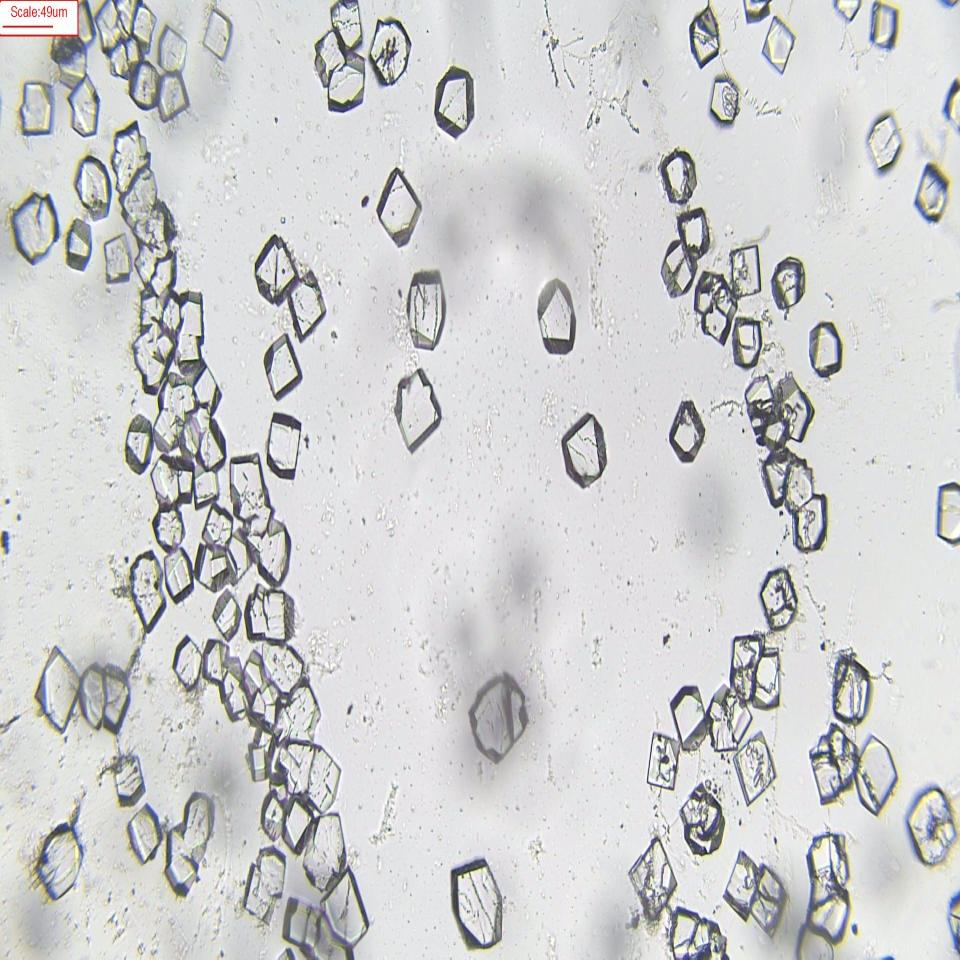crystal: (468, 674, 531, 759), (125, 554, 184, 641), (451, 860, 505, 954), (629, 836, 683, 929), (33, 643, 84, 737), (855, 718, 902, 814), (910, 779, 958, 870), (36, 813, 86, 900), (10, 186, 61, 264), (809, 722, 862, 795), (395, 368, 442, 449), (378, 163, 422, 248), (563, 409, 609, 488), (407, 267, 448, 355), (678, 783, 725, 858), (370, 12, 414, 88), (536, 274, 578, 351), (433, 64, 476, 138), (660, 233, 705, 303), (829, 654, 873, 723), (252, 234, 298, 299), (733, 736, 776, 801), (724, 845, 758, 926), (668, 684, 711, 748), (286, 270, 327, 337), (68, 76, 107, 145), (171, 634, 211, 697), (726, 240, 764, 305), (762, 566, 800, 630), (15, 77, 56, 136), (268, 412, 304, 477), (73, 155, 112, 215), (916, 159, 951, 225), (264, 336, 301, 398), (199, 2, 234, 66), (769, 252, 806, 312), (669, 395, 703, 460), (648, 726, 682, 790), (688, 2, 721, 67), (762, 14, 796, 77), (659, 150, 698, 204), (870, 112, 902, 174), (127, 804, 158, 868), (154, 22, 195, 70), (165, 542, 196, 604), (731, 313, 764, 371), (934, 477, 960, 550), (110, 749, 145, 803), (809, 322, 842, 378), (680, 204, 714, 256), (124, 413, 155, 470), (868, 0, 902, 48), (711, 71, 741, 125), (106, 229, 133, 284), (66, 213, 94, 266), (212, 598, 241, 640)
not_crystal: (710, 643, 786, 745), (759, 457, 830, 555), (312, 0, 364, 117), (742, 375, 815, 451), (166, 795, 216, 904), (804, 831, 853, 933), (82, 661, 132, 735)
